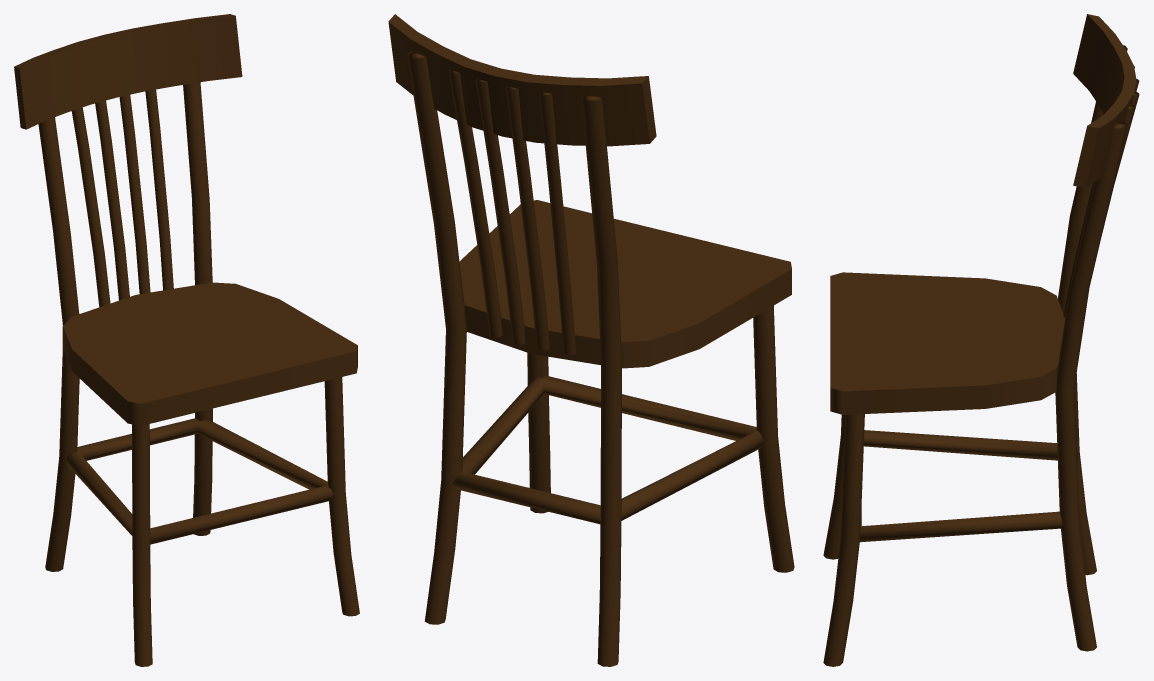
Rendered from Texture_Chair.obj.
The picture shows the model from 3 angles, left to right: view 1: azimuth 30°, elevation 25°; view 2: azimuth 150°, elevation 25°; view 3: azimuth 270°, elevation 25°; orthographic projection. The views are drawn at different scales.
Visible parts, largest first — view 1: Chair4; view 2: Chair4; view 3: Chair4.
Boxes of the visible parts, x1=… form: Chair4: x1=14, y1=14, x2=359, y2=666; Chair4: x1=388, y1=14, x2=794, y2=666; Chair4: x1=823, y1=14, x2=1139, y2=666.
Bounding box in the file's own units: 67.64 × 143 × 75.87.
